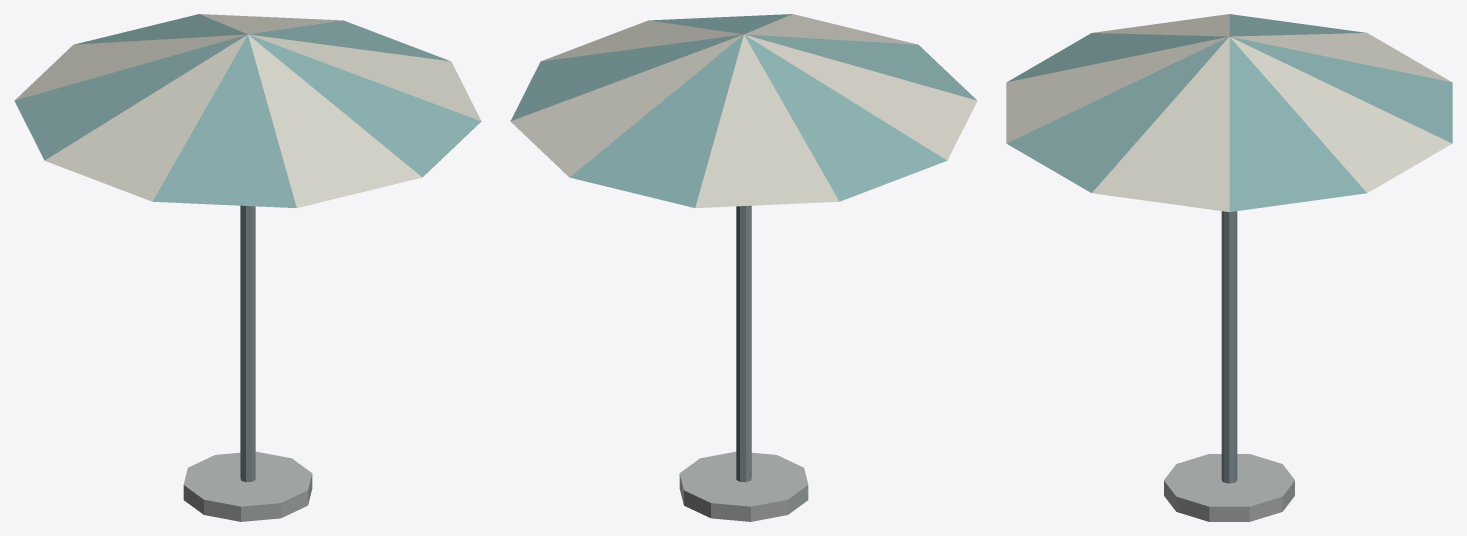
The model's file is lonely-parasol.glb.
3 renders of one model, left to right at view 1: azimuth 30°, elevation 25°; view 2: azimuth 150°, elevation 25°; view 3: azimuth 270°, elevation 25°, orthographic.
Visible parts, largest first — view 1: Sanatorium_Lonely_Parasol_Sanatorium_Faded_Aqua, Sanatorium_Lonely_Parasol_Sanatorium_Cream_Plaster, Parasol_base, Parasol_pole; view 2: Sanatorium_Lonely_Parasol_Sanatorium_Cream_Plaster, Sanatorium_Lonely_Parasol_Sanatorium_Faded_Aqua, Parasol_base, Parasol_pole; view 3: Sanatorium_Lonely_Parasol_Sanatorium_Cream_Plaster, Sanatorium_Lonely_Parasol_Sanatorium_Faded_Aqua, Parasol_base, Parasol_pole.
Part boxes in pixels (box(x1,y1,x2,y2)): Sanatorium_Lonely_Parasol_Sanatorium_Faded_Aqua: box(14, 14, 481, 208); Sanatorium_Lonely_Parasol_Sanatorium_Cream_Plaster: box(15, 14, 480, 207); Parasol_base: box(183, 451, 312, 521); Parasol_pole: box(240, 205, 255, 482); Sanatorium_Lonely_Parasol_Sanatorium_Cream_Plaster: box(510, 14, 977, 208); Sanatorium_Lonely_Parasol_Sanatorium_Faded_Aqua: box(511, 14, 976, 207); Parasol_base: box(679, 451, 808, 521); Parasol_pole: box(736, 205, 751, 482); Sanatorium_Lonely_Parasol_Sanatorium_Cream_Plaster: box(1006, 14, 1451, 211); Sanatorium_Lonely_Parasol_Sanatorium_Faded_Aqua: box(1007, 14, 1452, 211); Parasol_base: box(1164, 454, 1294, 521); Parasol_pole: box(1221, 211, 1237, 483).
Size of the model in its own units: 2.5 by 2.7 by 2.38.
